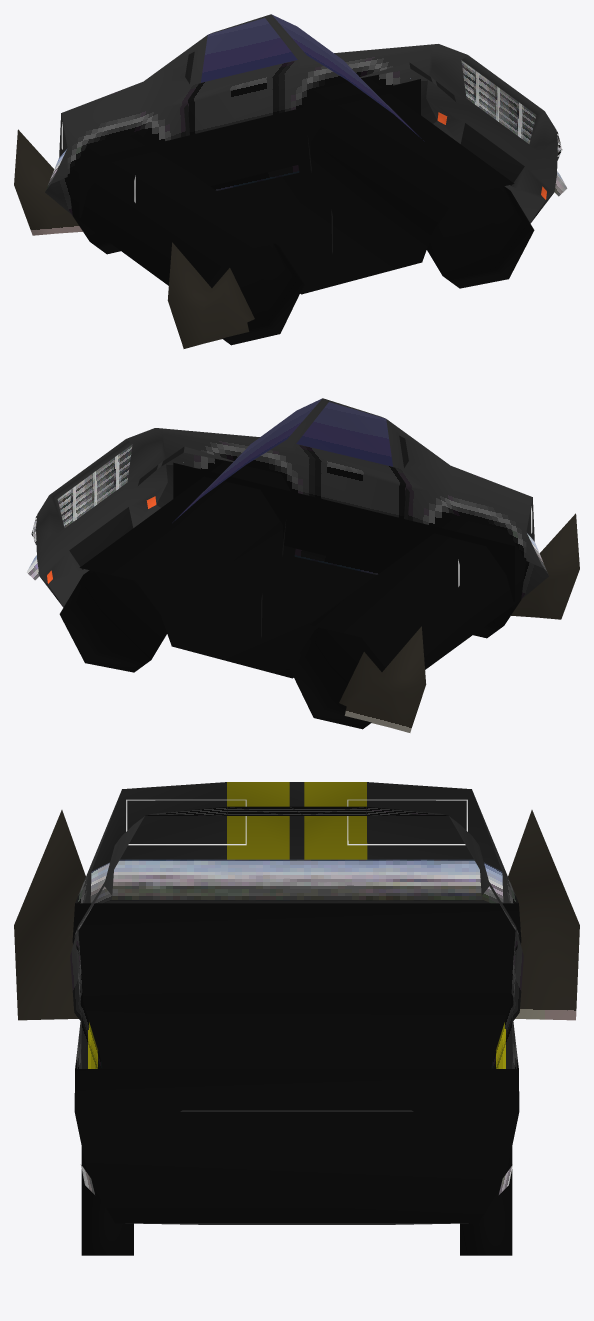
Rendered from ps2_save-icons_runabout3neoage.glb.
3 renders of one model, top to bottom at view 1: azimuth 30°, elevation 25°; view 2: azimuth 150°, elevation 25°; view 3: azimuth 270°, elevation 25°, orthographic. The views are drawn at different scales.
Parts seen in each view (by area): view 1: RUN3SYSN.ICN; view 2: RUN3SYSN.ICN; view 3: RUN3SYSN.ICN.
Part boxes in pixels (bbox=[...]): RUN3SYSN.ICN: bbox=[14, 14, 567, 348]; RUN3SYSN.ICN: bbox=[26, 398, 579, 732]; RUN3SYSN.ICN: bbox=[14, 782, 579, 1255].
Size of the model in its own units: 4.72 by 2.32 by 3.67.
Materials: 1 (1 with a texture image).
